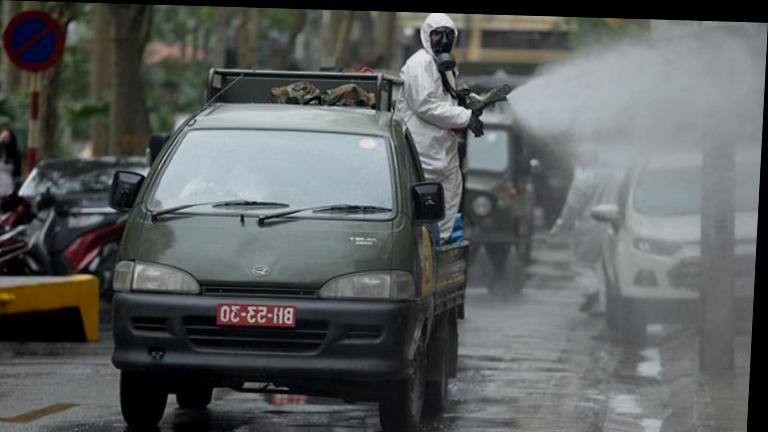License_Plate: (212, 301, 298, 331)
